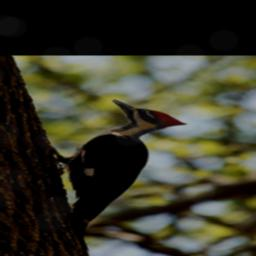Woodpecker: (33, 99, 187, 251)
